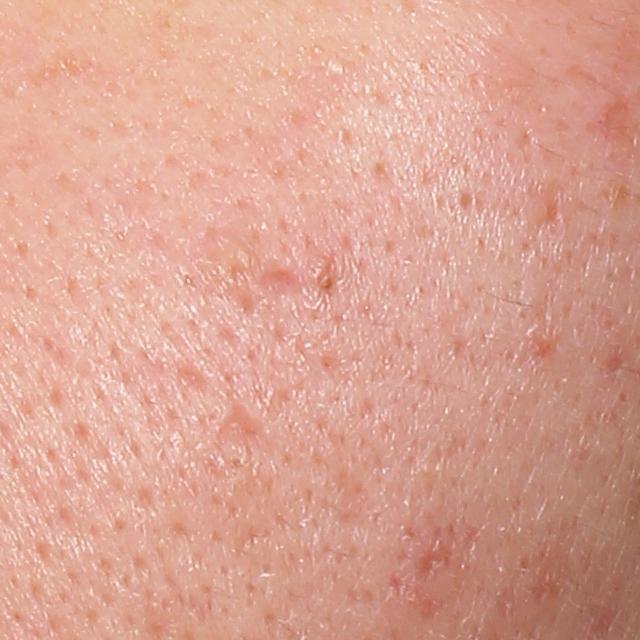atrophic_scar: (213, 400, 270, 466), (417, 544, 455, 584), (175, 365, 212, 400), (261, 266, 301, 295)
